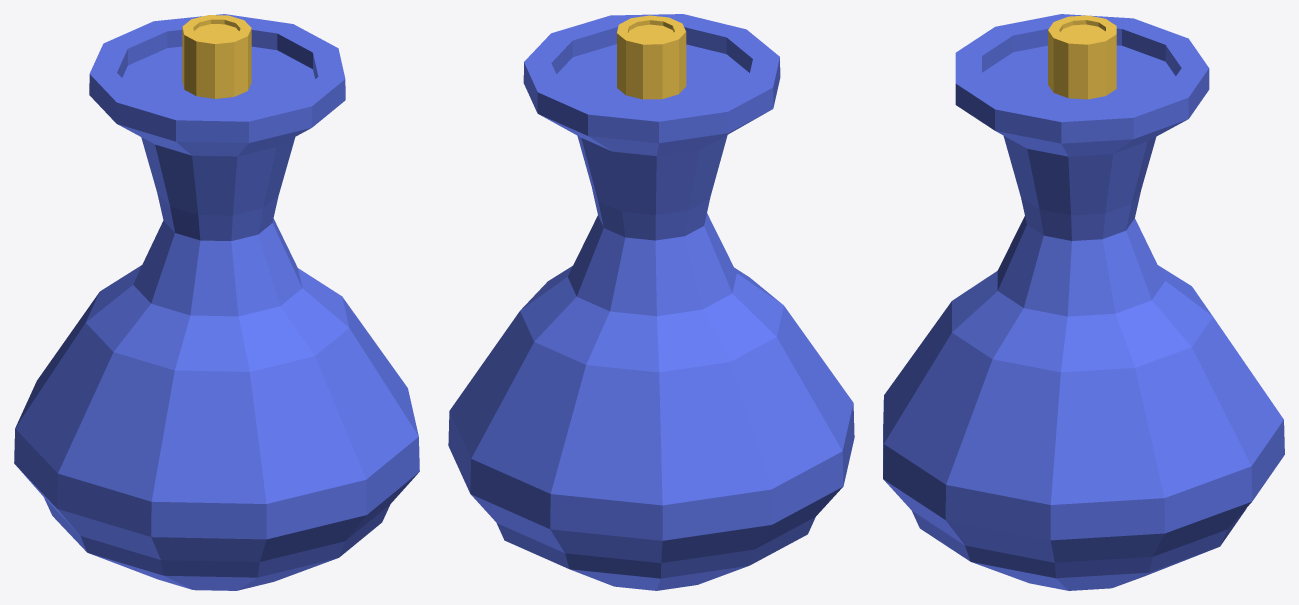
File: potion3.fbx
The picture shows the model from 3 angles, left to right: view 1: azimuth 30°, elevation 25°; view 2: azimuth 150°, elevation 25°; view 3: azimuth 270°, elevation 25°; orthographic projection.
Visible parts, largest first — view 1: Potion3; view 2: Potion3; view 3: Potion3.
Part boxes in pixels (x1=…): Potion3: x1=14, y1=14, x2=419, y2=590; Potion3: x1=448, y1=14, x2=854, y2=590; Potion3: x1=883, y1=14, x2=1284, y2=590.
Bounding box in the file's own units: 15.42 × 22.15 × 15.26.
